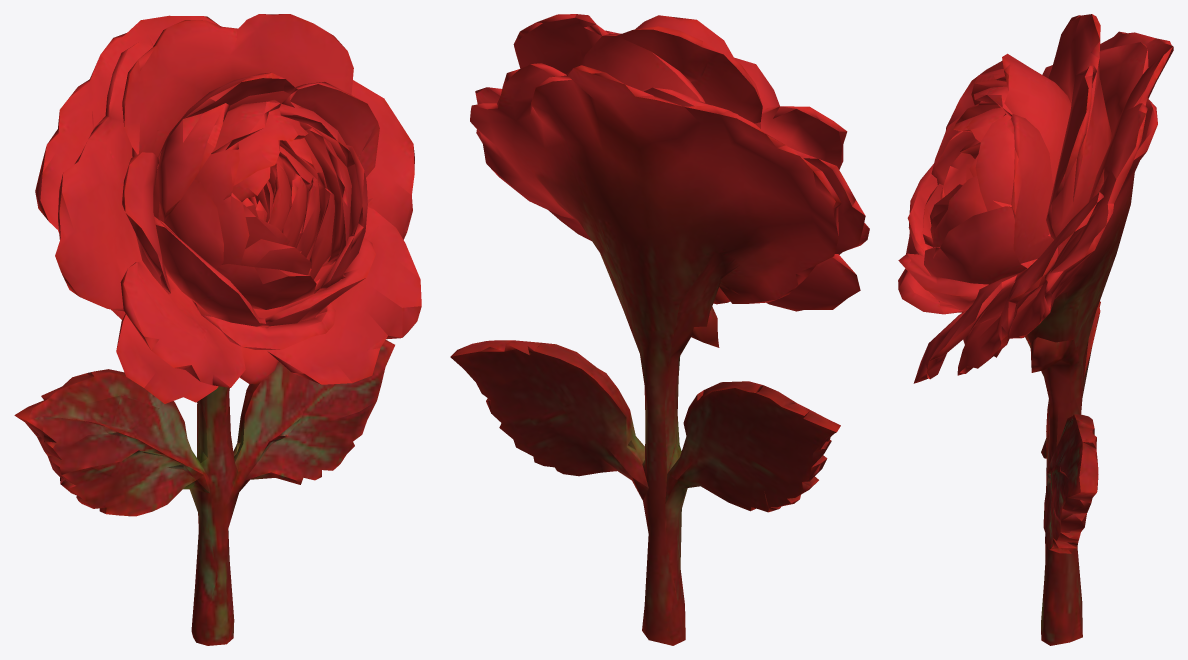
Rendered from red_rose.glb.
3 views of the same model, side by side, from view 1: azimuth 30°, elevation 25°; view 2: azimuth 150°, elevation 25°; view 3: azimuth 270°, elevation 25° (orthographic). The views are drawn at different scales.
Parts seen in each view (by area): view 1: white_rose; view 2: white_rose; view 3: white_rose.
Part boxes in pixels (x1=…): white_rose: x1=14, y1=14, x2=421, y2=645; white_rose: x1=450, y1=14, x2=869, y2=645; white_rose: x1=898, y1=14, x2=1173, y2=645.
Size of the model in its own units: 0.3766 by 0.5856 by 0.2386.
1 material, 1 textured.
